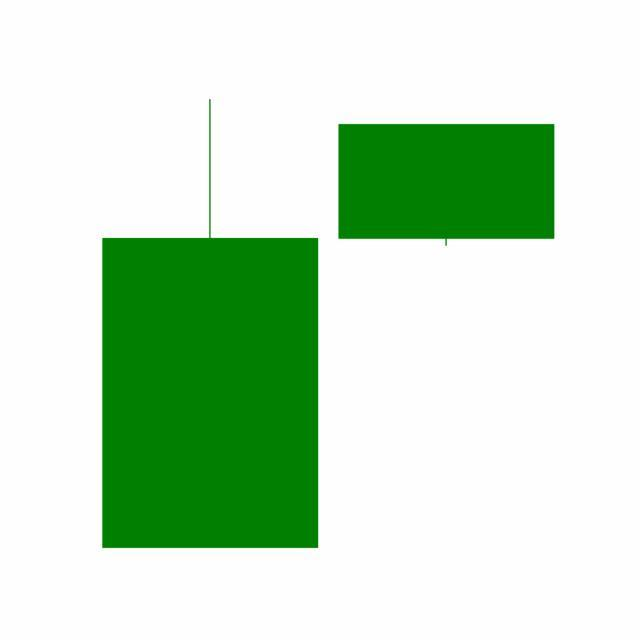Marubozu: (328, 123, 566, 249)
